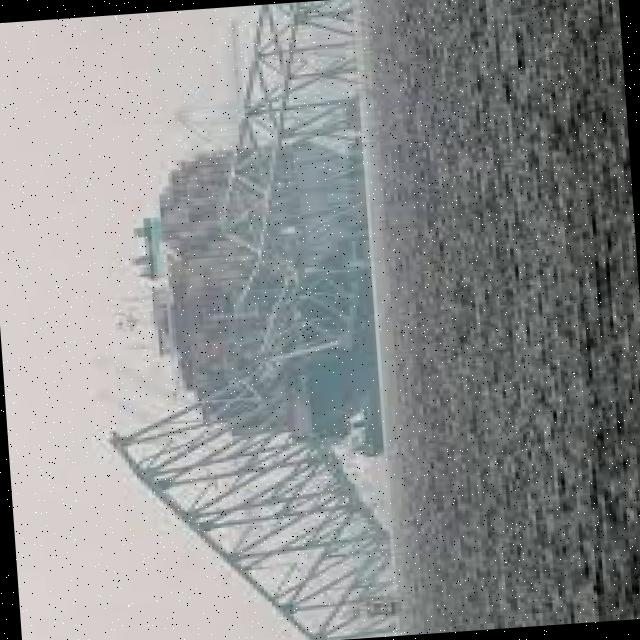bridge collapse: (51, 136, 428, 640)
